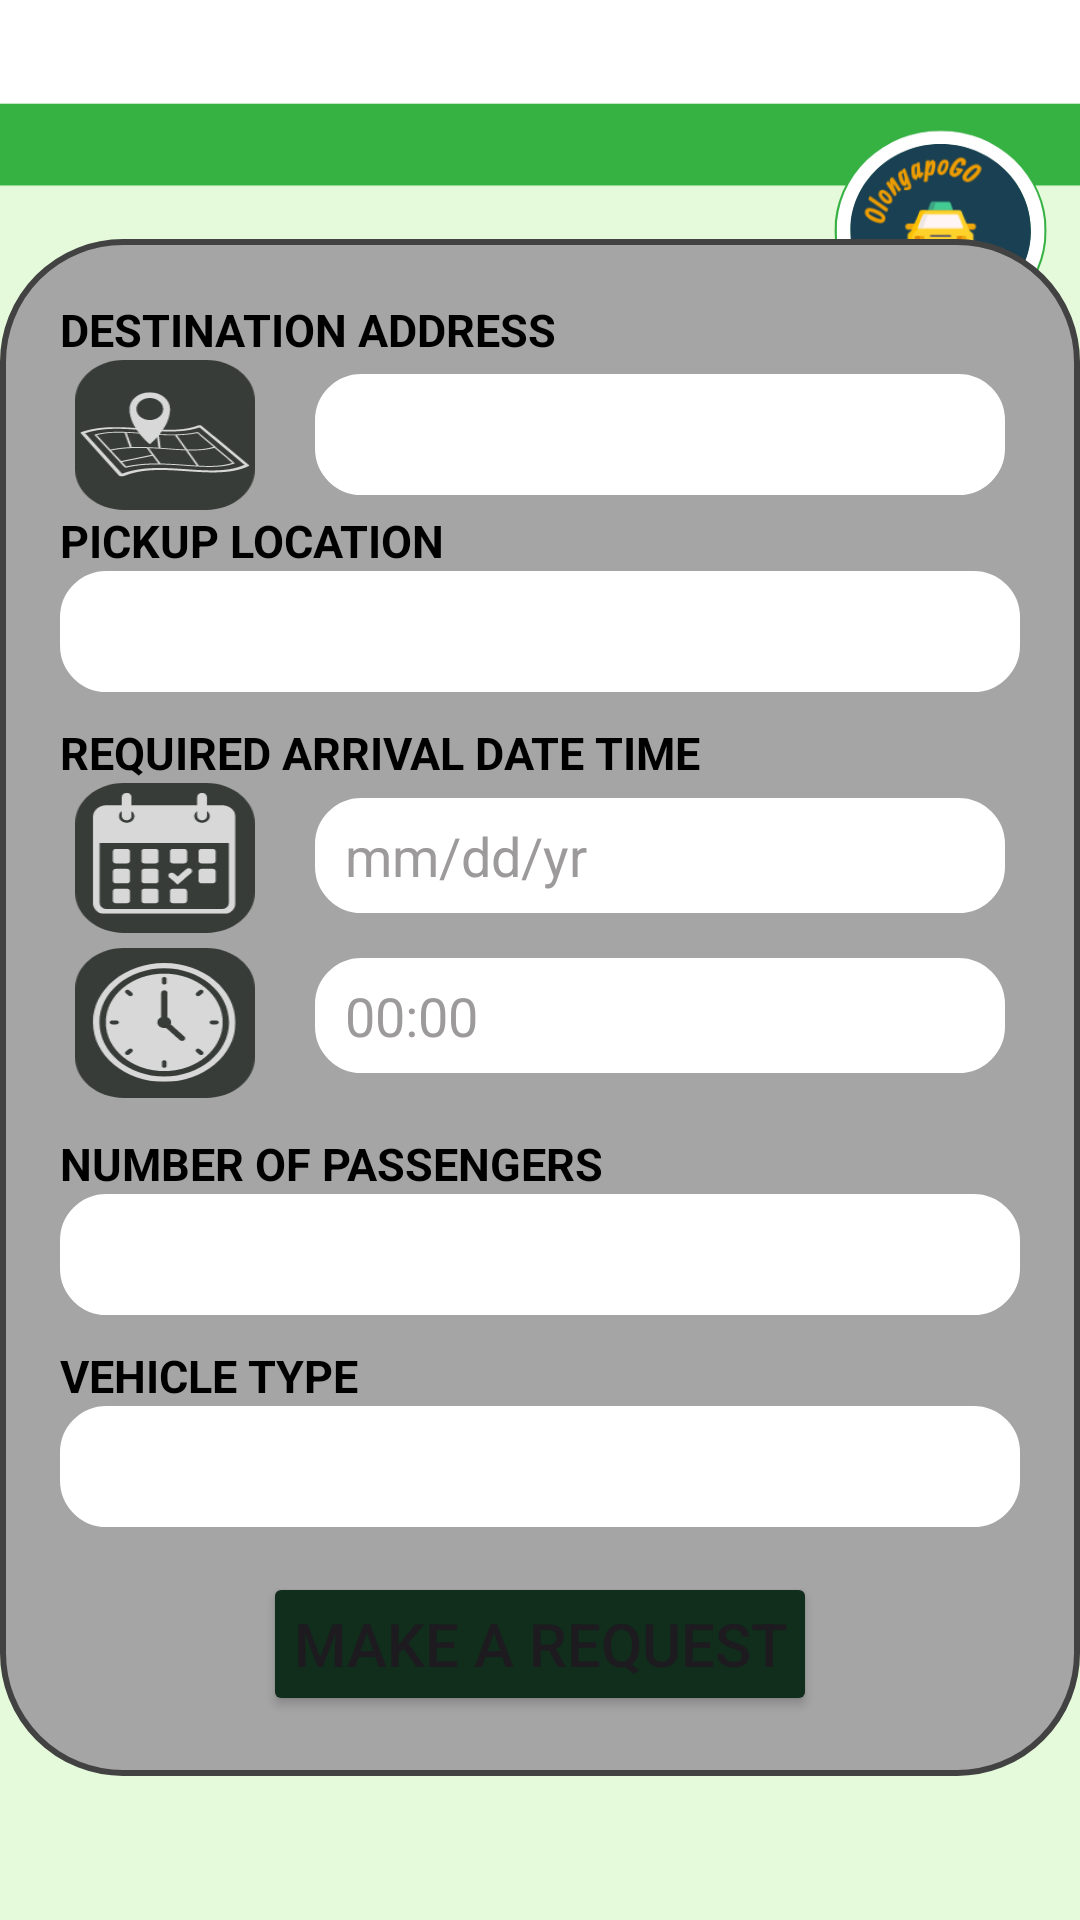

Named icons in this screenshot (1080 x 1920) and their centers, (x,y):
calendar: (165,858)
clock: (165,1023)
map: (165,435)
